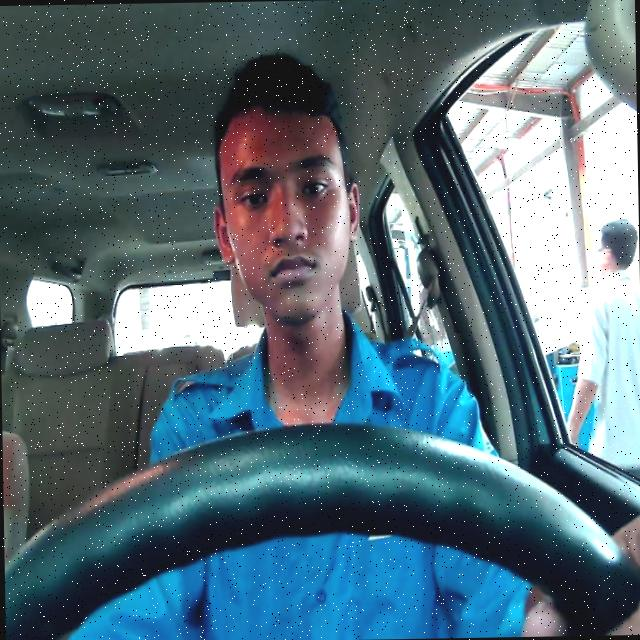focused: (210, 107, 359, 329)
